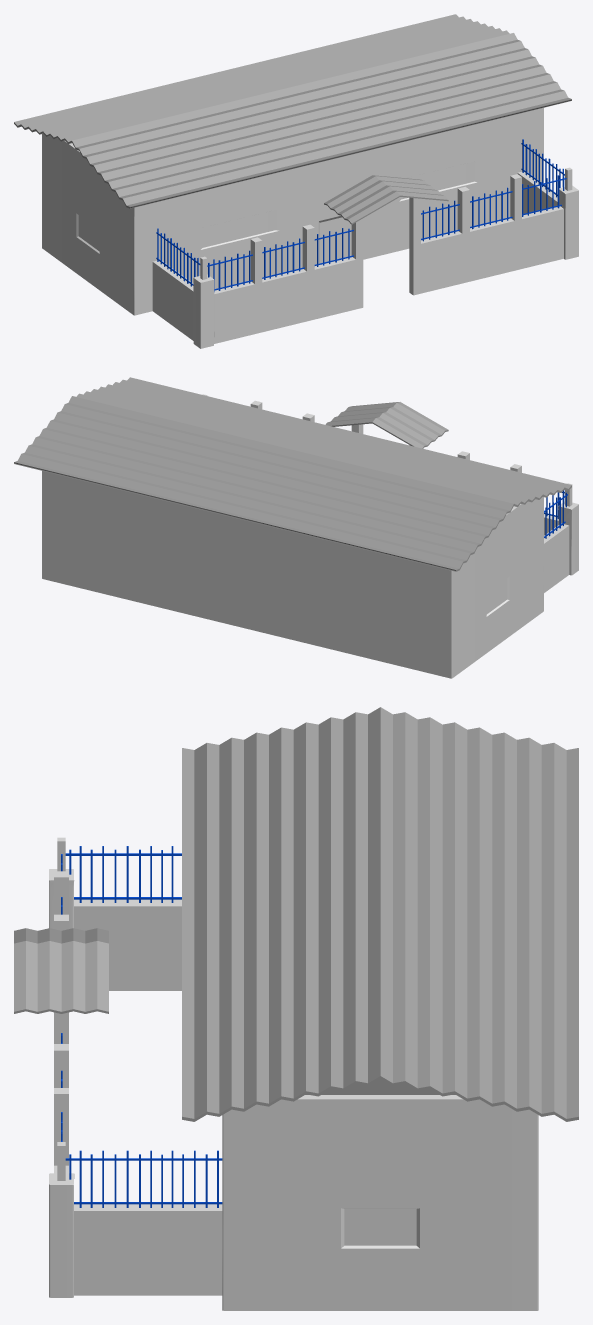
The model's file is OrphanageModel.fbx.
The picture shows the model from 3 angles, top to bottom: view 1: azimuth 30°, elevation 25°; view 2: azimuth 150°, elevation 25°; view 3: azimuth 270°, elevation 25°; orthographic projection. The views are drawn at different scales.
Parts seen in each view (by area): view 1: Main, Roof, Bars; view 2: Main, Roof, Bars; view 3: Roof, Main, Bars.
Part boxes in pixels (box(x1,y1,x2,y2)): Main: box(42, 107, 578, 348); Roof: box(14, 14, 571, 224); Bars: box(156, 139, 566, 291); Main: box(42, 394, 578, 678); Roof: box(14, 377, 571, 571); Bars: box(544, 490, 567, 538); Roof: box(14, 707, 578, 1121); Main: box(49, 837, 538, 1310); Bars: box(61, 846, 222, 1207).
Bounding box in the file's own units: 23.39 × 7.34 × 15.14.
